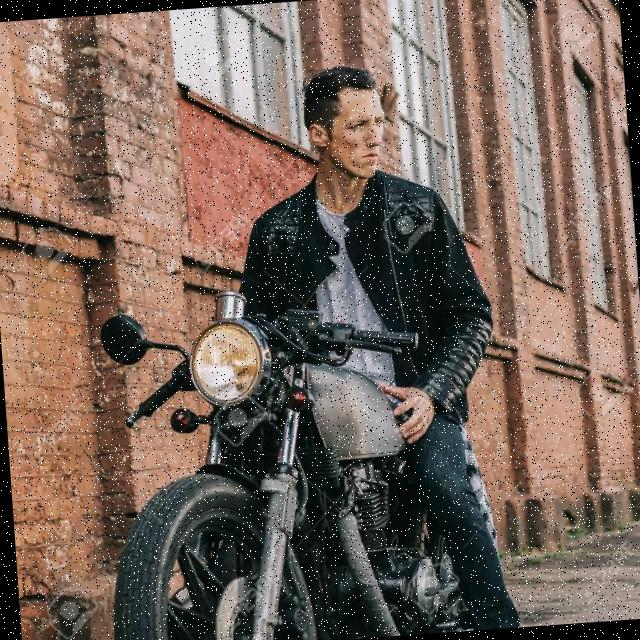No helmet: (288, 48, 402, 202)
